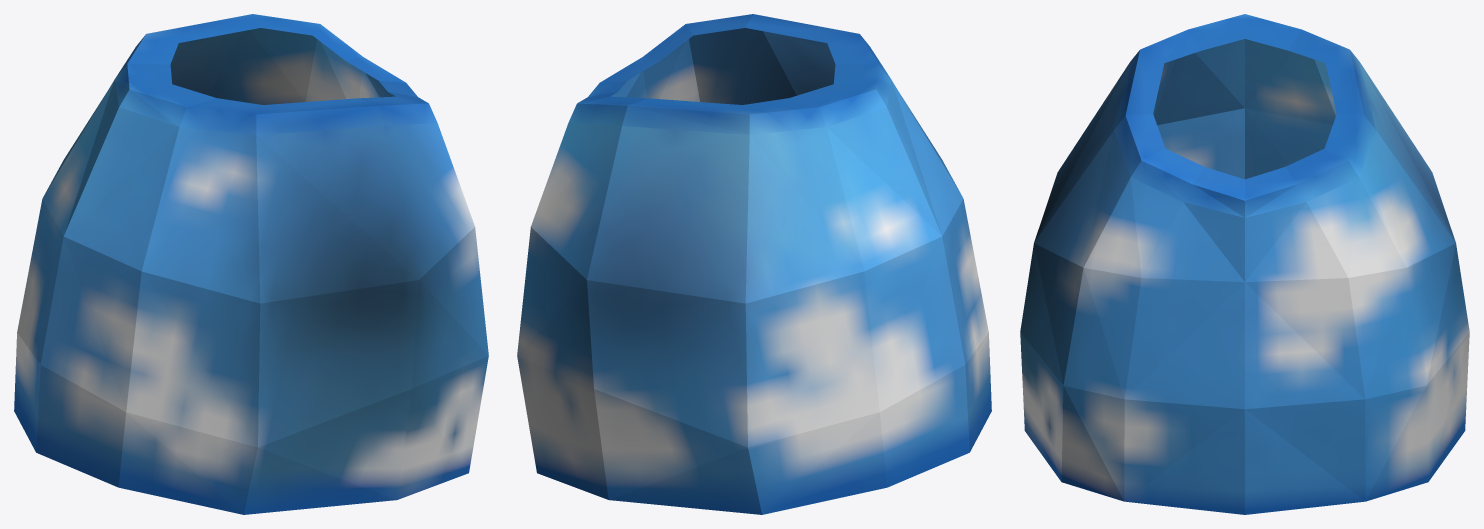
The model's file is CLOUD TEE.fbx.
3 renders of one model, left to right at view 1: azimuth 30°, elevation 25°; view 2: azimuth 150°, elevation 25°; view 3: azimuth 270°, elevation 25°, orthographic. The views are drawn at different scales.
Parts seen in each view (by area): view 1: CLOUD_TEE; view 2: CLOUD_TEE; view 3: CLOUD_TEE.
Part boxes in pixels (x1,y1,x2,y2): CLOUD_TEE: (14,14,488,514); CLOUD_TEE: (517,14,991,514); CLOUD_TEE: (1020,14,1469,514).
Bounding box in the file's own units: 36.03 × 32.96 × 37.09.
